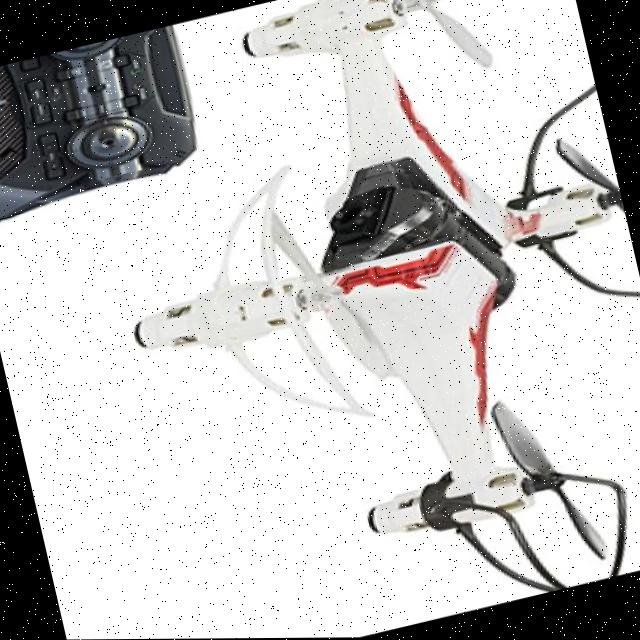drones: (44, 0, 640, 640)
